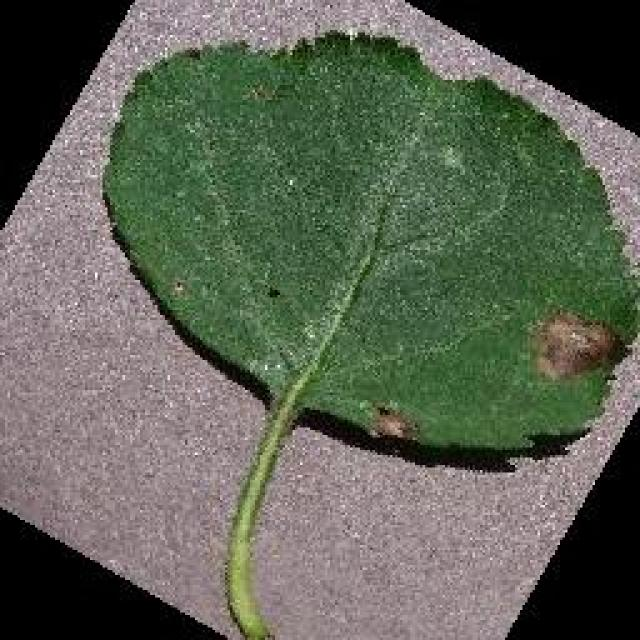Black_rot: (98, 28, 638, 638)
